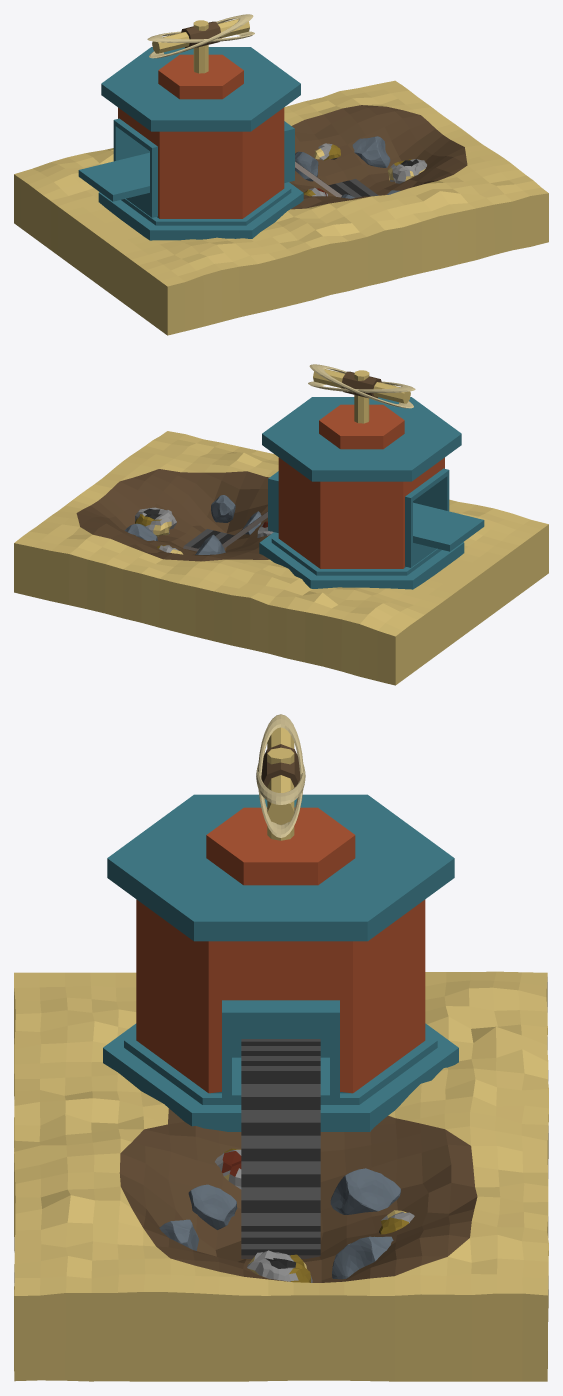
File: tas_ocagi.fbx
The picture shows the model from 3 angles, top to bottom: view 1: azimuth 30°, elevation 25°; view 2: azimuth 150°, elevation 25°; view 3: azimuth 270°, elevation 25°; orthographic projection. The views are drawn at different scales.
Visible parts, largest first — view 1: Plane, Cylinder, Cube.001, tas.003, Cylinder.001, Cylinder.003, Cube.002, Cube, Circle.001, Cylinder.002, Circle, Cylinder.004 (+1 smaller); view 2: Plane, Cylinder, Cube.001, Cube.002, Cylinder.001, Cylinder.003, Cube, Circle.001, Cylinder.002, tas, Circle, Cylinder.004; view 3: Plane, Cylinder, Cylinder.001, Cube, tas.002, tas.003, tas.001, Cube.002, Circle, Cylinder.003, Cylinder.004, tas.
Boxes of the visible parts, x1,y1,x2,y2 form: Plane: (14,80,548,335); Cylinder: (98,47,303,240); Cube.001: (78,118,157,217); tas.003: (352,136,390,167); Cylinder.001: (295,161,378,197); Cylinder.003: (152,19,249,53); Cube.002: (387,159,426,183); Cube: (284,121,294,182); Circle.001: (149,14,253,58); Cylinder.002: (193,20,208,73); Circle: (147,31,254,42); Cylinder.004: (181,21,221,47); Plane: (14,431,548,685); Cylinder: (259,397,464,589); Cube.001: (405,468,484,567); Cube.002: (135,507,176,536); Cylinder.001: (183,511,267,551); Cylinder.003: (313,369,410,403); Cube: (268,471,278,532); Circle.001: (309,364,413,408); Cylinder.002: (354,370,369,423); tas: (211,495,235,522); Circle: (308,381,415,392); Cylinder.004: (341,371,381,397); Plane: (14,971,548,1381); Cylinder: (103,794,458,1131); Cylinder.001: (241,1039,320,1258); Cube: (222,1000,339,1102); tas.002: (330,1168,400,1214); tas.003: (332,1236,393,1279); tas.001: (188,1184,237,1229); Cube.002: (247,1250,312,1282); Circle: (258,714,303,837); Cylinder.003: (267,727,294,824); Cylinder.004: (261,744,300,787); tas: (159,1219,198,1250).
Size of the model in its own units: 1045 by 599 by 730.
